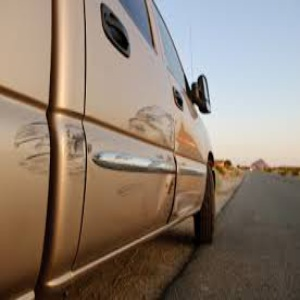door_scratch: (16, 86, 175, 216)
